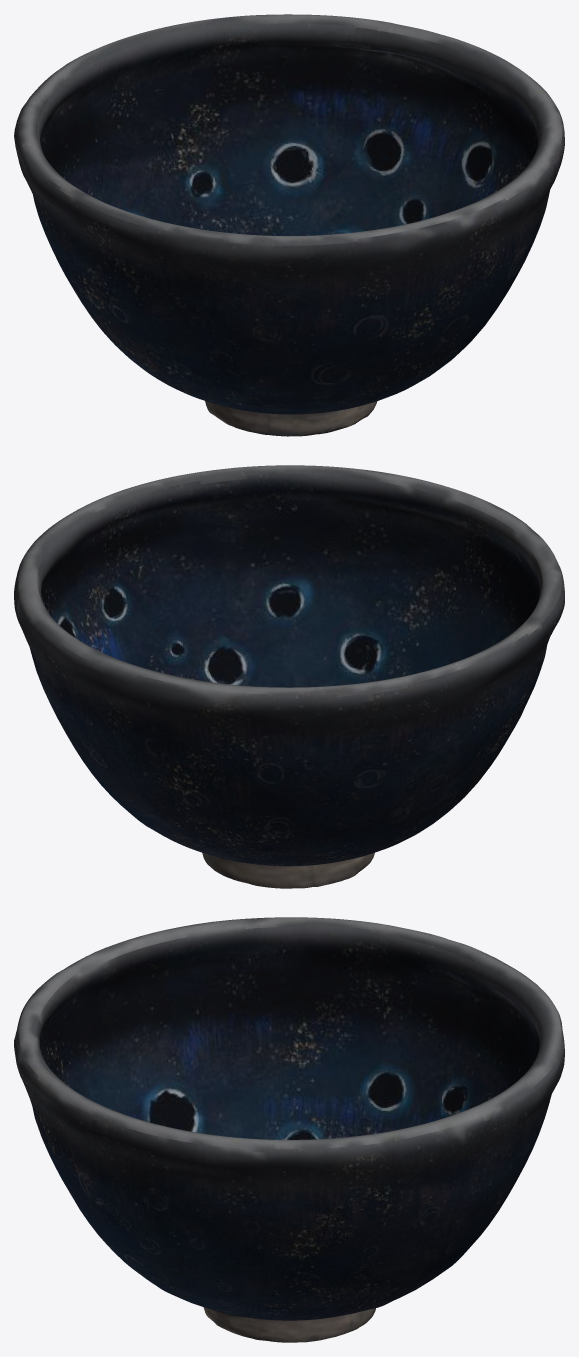
Rendered from cyawan.glb.
The picture shows the model from 3 angles, top to bottom: view 1: azimuth 30°, elevation 25°; view 2: azimuth 150°, elevation 25°; view 3: azimuth 270°, elevation 25°; orthographic projection.
Visible parts, largest first — view 1: cyawan; view 2: cyawan; view 3: cyawan.
Part boxes in pixels (x1,y1,x2,y2): cyawan: (14,14,564,436); cyawan: (14,465,564,888); cyawan: (14,917,564,1342).
Size of the model in its own units: 0.123 by 0.068 by 0.1227.
1 material, 1 textured.
